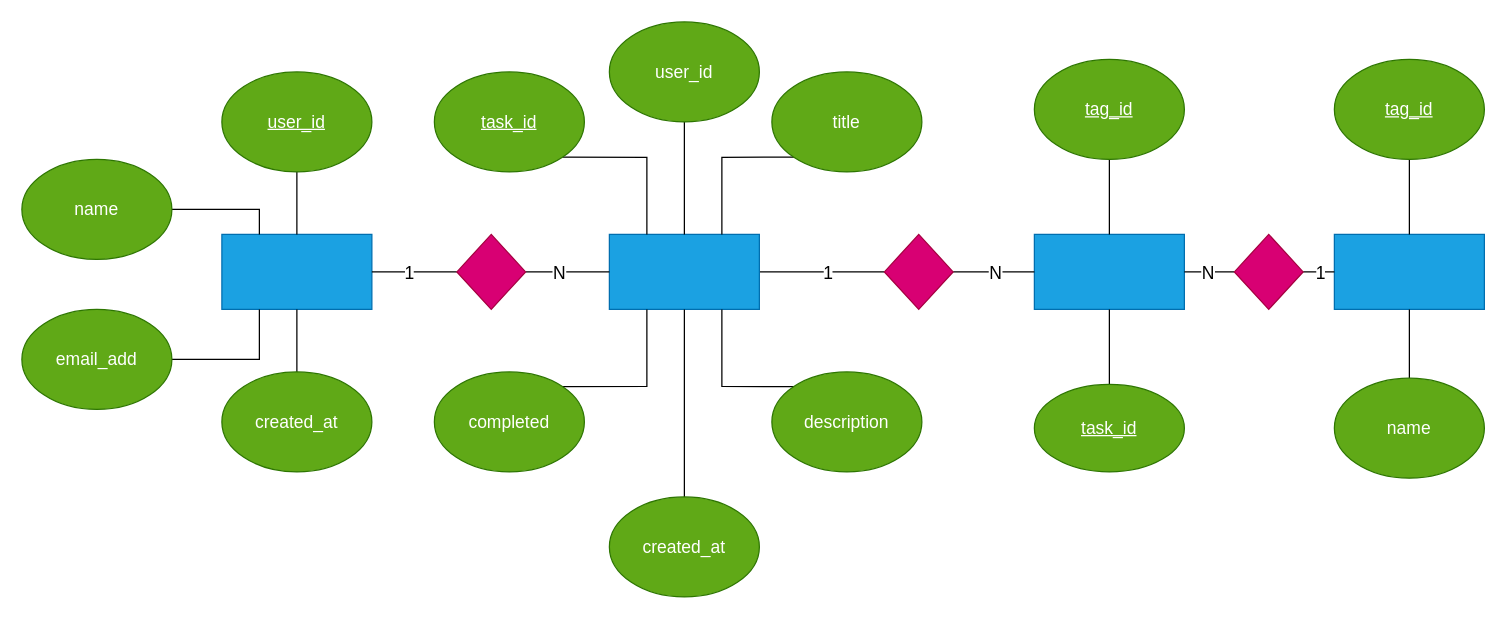
This 1506x619 diagram has some shape labels left out. The shapes that lost their labels are listed below. From the top down, each one's centre as x and y in pixels, then its label:
pixel 296 271: users
pixel 683 271: tasks
pixel 1108 271: tag_task
pixel 1408 271: tags
